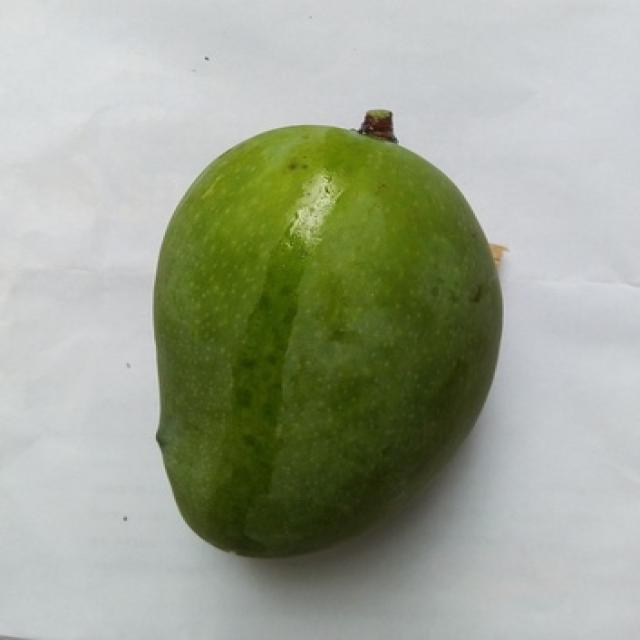Mango: (156, 127, 500, 557)
